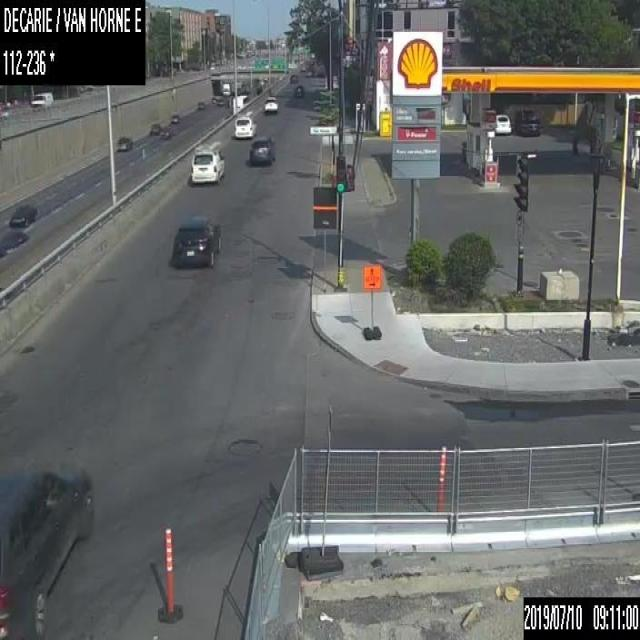construction: (243, 438, 639, 638), (156, 528, 183, 623), (362, 264, 382, 339)
vehicle: (0, 462, 95, 638), (172, 217, 221, 267), (189, 147, 226, 183), (0, 229, 27, 258), (250, 136, 276, 164), (514, 106, 539, 134), (8, 202, 36, 226), (233, 110, 256, 137), (29, 91, 52, 108), (493, 113, 510, 134), (115, 134, 132, 150), (232, 94, 246, 112), (264, 95, 277, 112), (160, 126, 173, 138), (222, 82, 231, 95), (168, 113, 179, 123), (149, 123, 160, 133), (294, 84, 302, 95), (211, 95, 221, 103), (197, 100, 204, 108), (290, 73, 296, 82)
